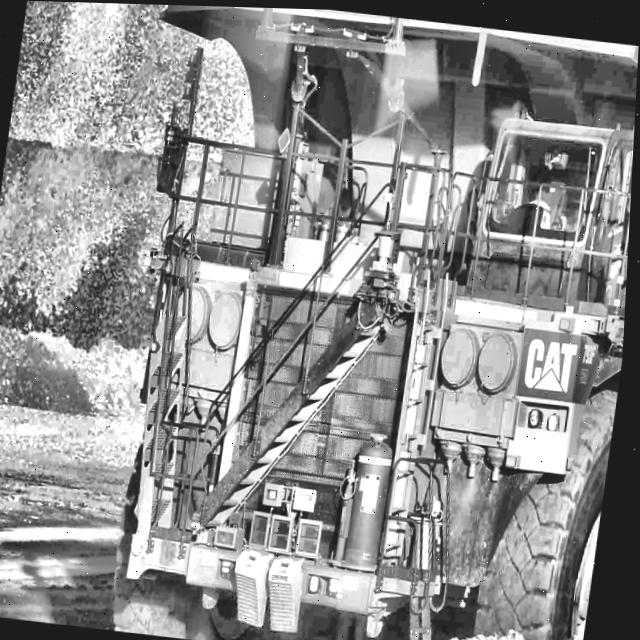dump_truck: (67, 2, 640, 640)
